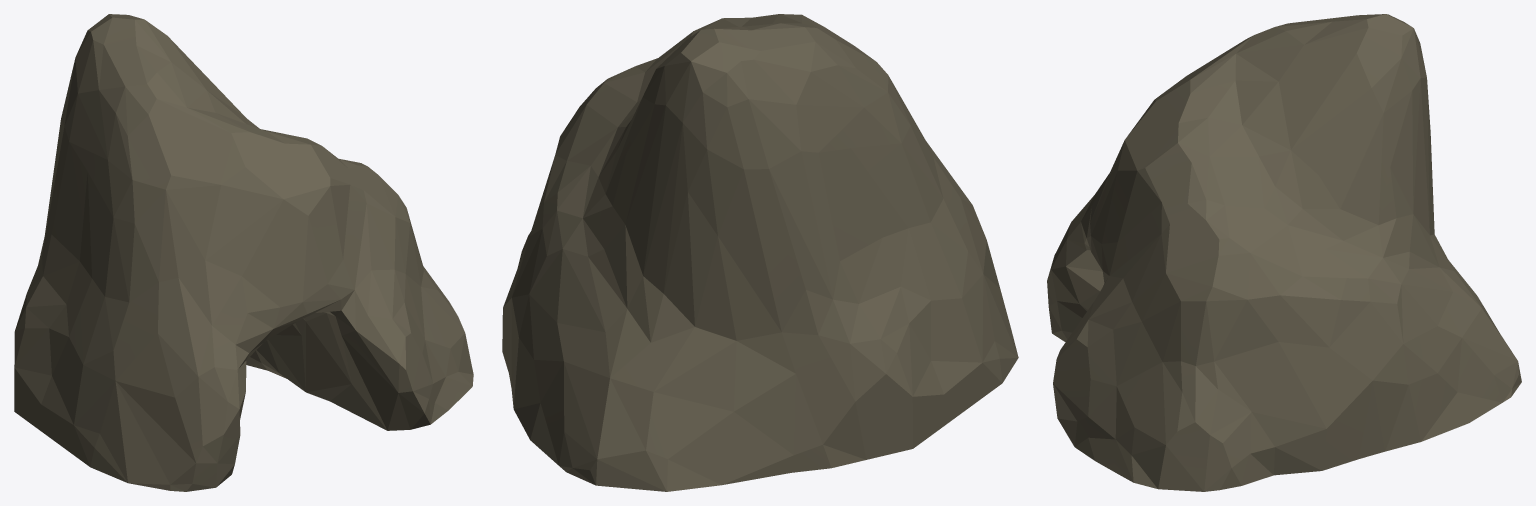
Rendered from Cave_09.fbx.
The picture shows the model from 3 angles, left to right: view 1: azimuth 30°, elevation 25°; view 2: azimuth 150°, elevation 25°; view 3: azimuth 270°, elevation 25°; orthographic projection. The views are drawn at different scales.
Visible parts, largest first — view 1: Cave_09_LOD0; view 2: Cave_09_LOD0; view 3: Cave_09_LOD0.
Boxes of the visible parts, x1=… form: Cave_09_LOD0: x1=14, y1=14, x2=473, y2=491; Cave_09_LOD0: x1=502, y1=14, x2=1018, y2=491; Cave_09_LOD0: x1=1047, y1=14, x2=1521, y2=491.
Size of what is drawn, in the model's own units: 9.21 by 7.7 by 9.45.
